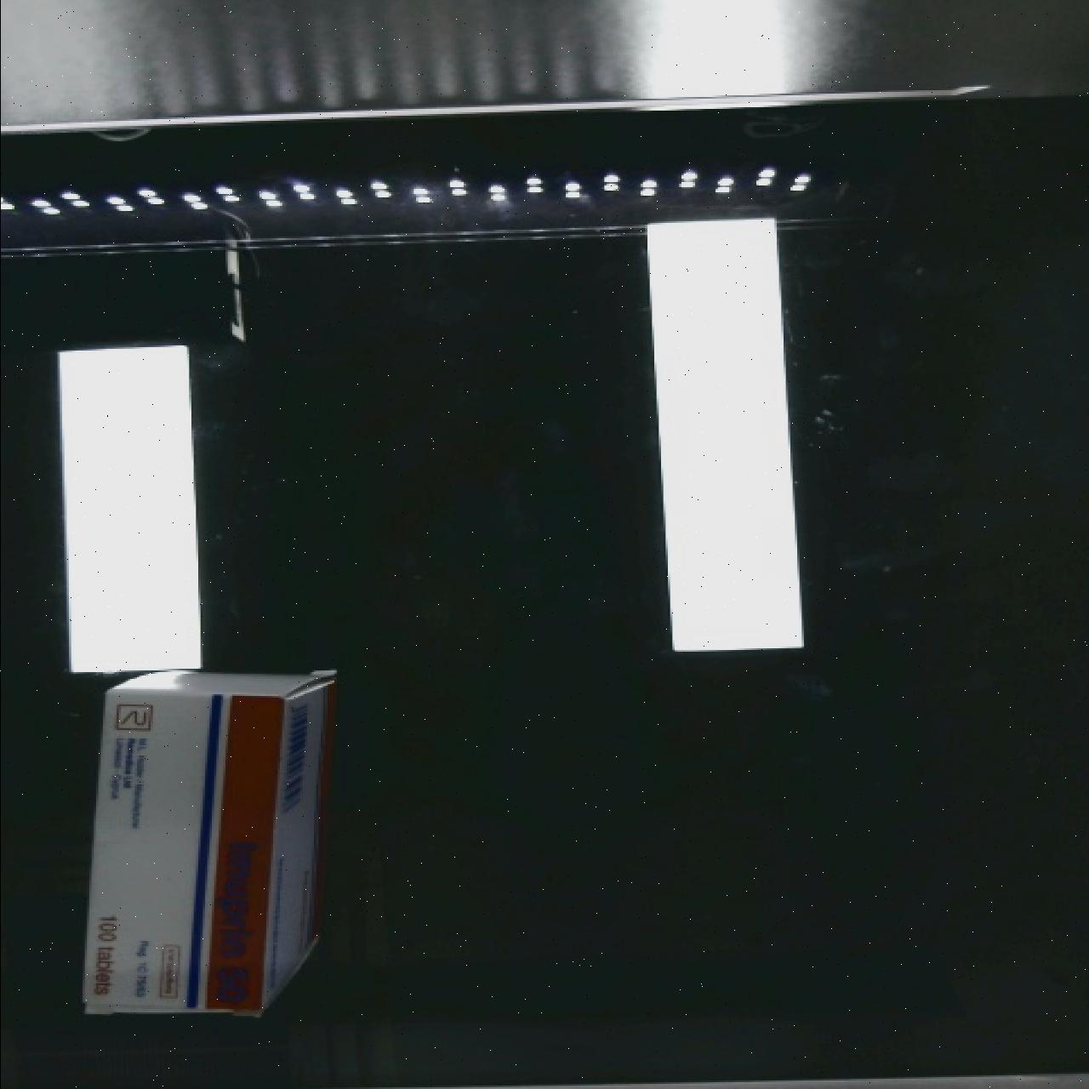medicine_label_obb: (190, 824, 276, 1024)
